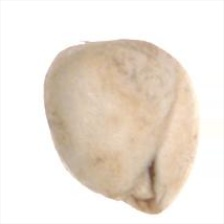L3: (112, 155, 163, 215)
L4: (42, 39, 198, 213)
